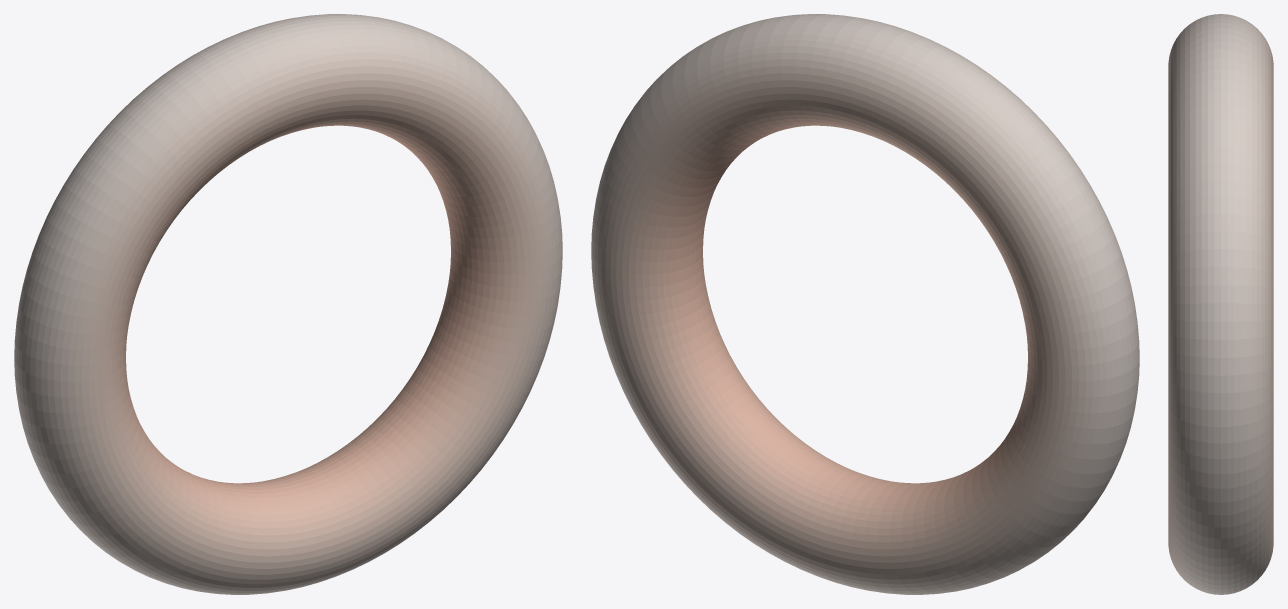
3 renders of one model, left to right at view 1: azimuth 30°, elevation 25°; view 2: azimuth 150°, elevation 25°; view 3: azimuth 270°, elevation 25°, orthographic. The views are drawn at different scales.
Visible parts, largest first — view 1: world; view 2: world; view 3: world.
Part boxes in pixels (bbox=[...]): world: bbox=[14, 14, 562, 594]; world: bbox=[591, 14, 1139, 594]; world: bbox=[1168, 14, 1273, 594].
Size of the model in its own units: 30.13 by 30.13 by 5.46.
